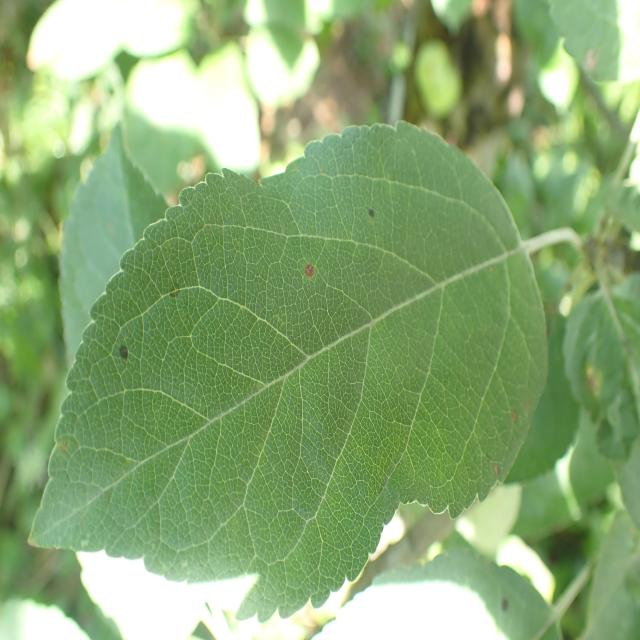frog-eye-leaf-spot: (28, 120, 550, 625)
